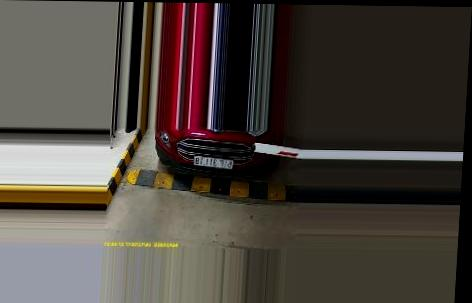License_Plate: (191, 154, 233, 170)
